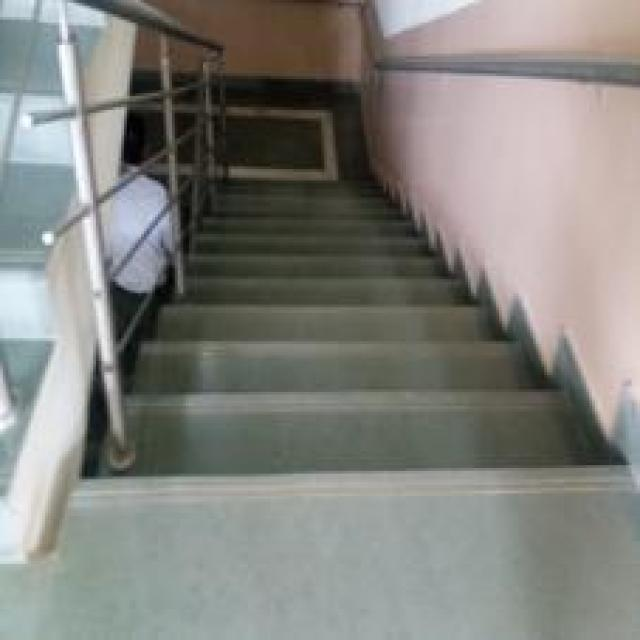downstair: (120, 297, 588, 525)
